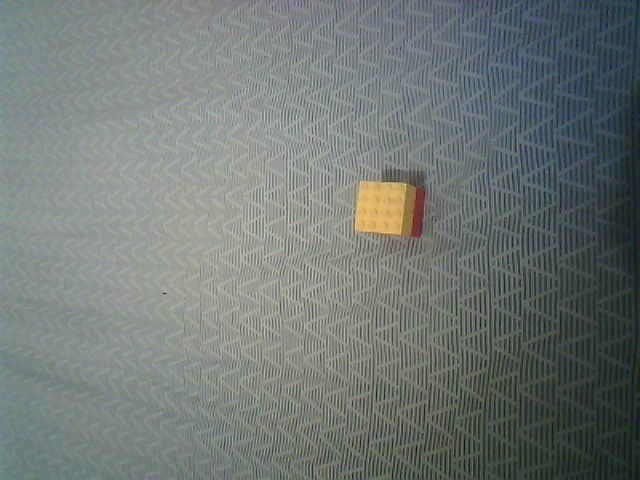lego: (352, 180, 426, 238)
